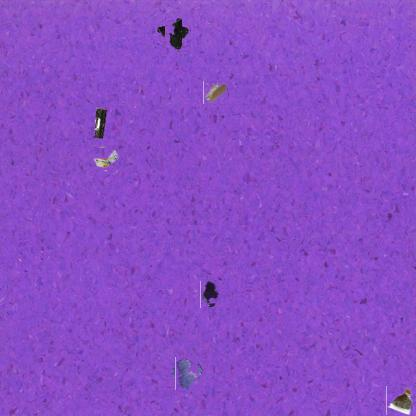dirty: (385, 386, 414, 416), (159, 21, 187, 48), (93, 146, 117, 172), (203, 80, 228, 104), (93, 106, 110, 140)
liquid: (173, 359, 201, 388), (200, 280, 219, 308)
